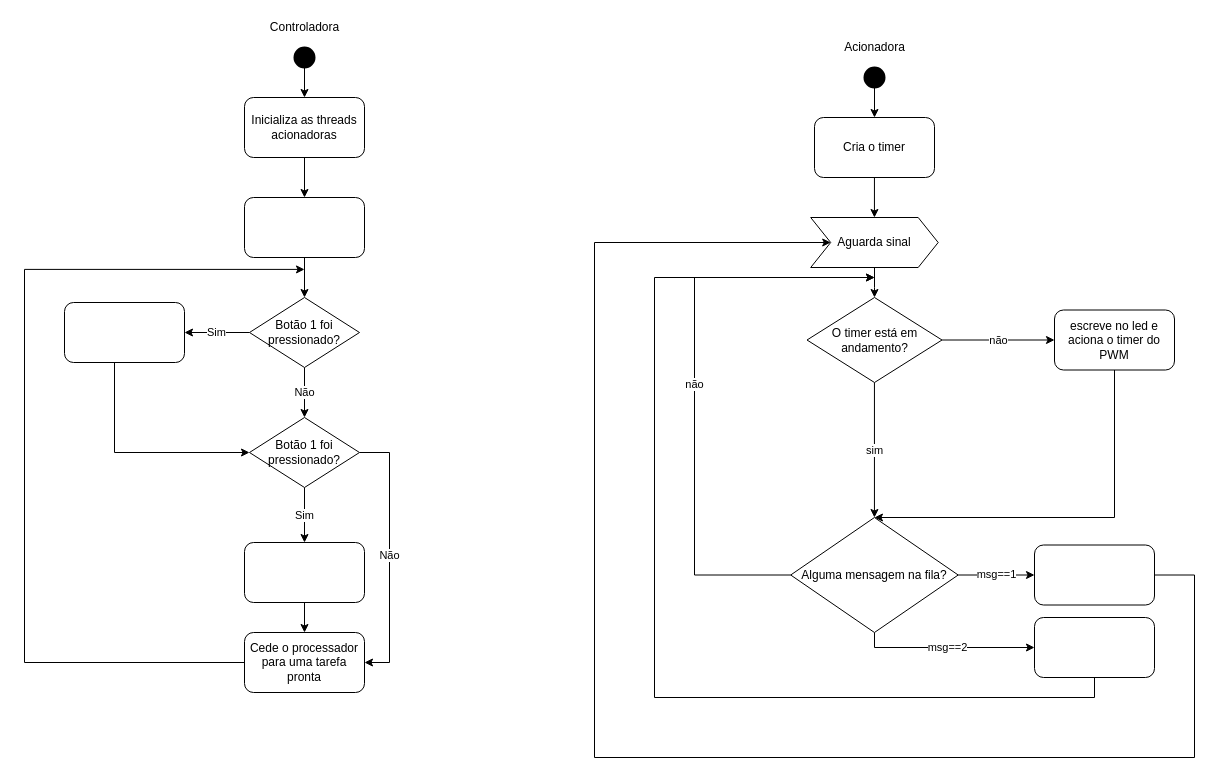
Some shapes in this 1220 by 783 pixel diagram are drawn without their labels. Here are the shapes that lost their labels. From the top down, the box of each, then its label:
(244, 196, 364, 258): Seta flag da thread acionadora A
(64, 302, 184, 362): Coloca "1" na fila de mensagem
(244, 542, 364, 602): Coloca "2" na fila de mensagem
(1034, 544, 1154, 605): Seta o flag da próxima tarefa
(1034, 616, 1154, 678): Aumenta a intensidade do PWM em 10%
